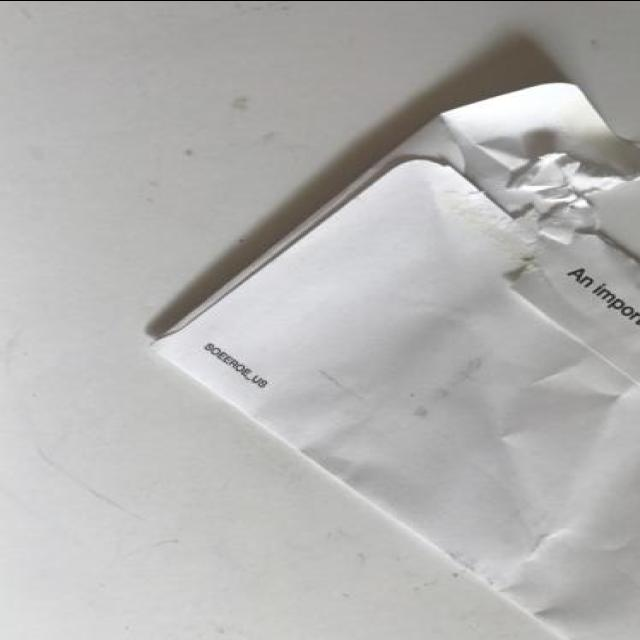kertas: (145, 81, 640, 640)
